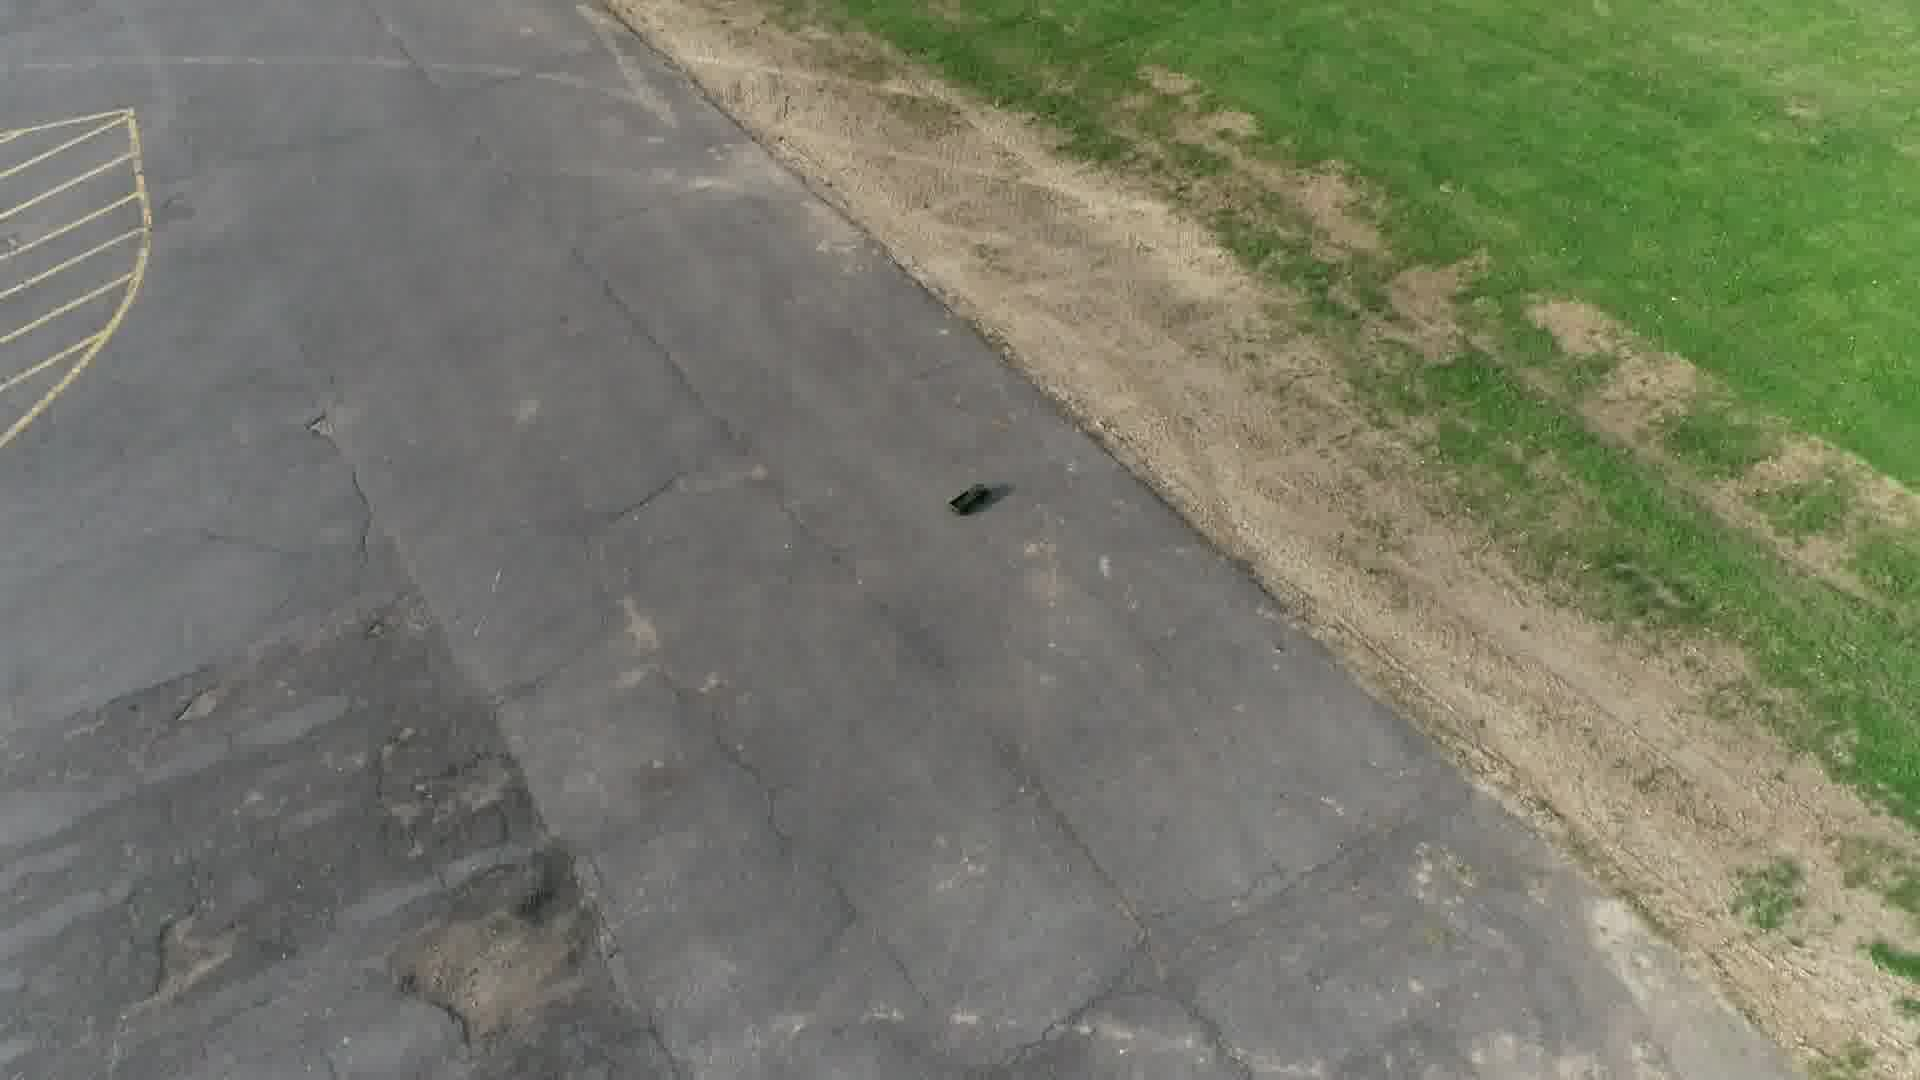transporter9: (938, 481, 994, 517)
